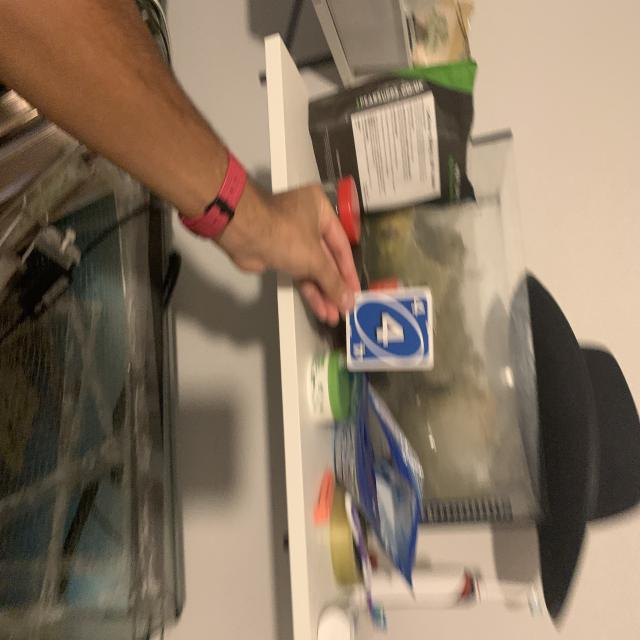lblue-4: (409, 294, 429, 322)
